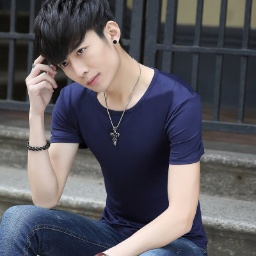face: (33, 1, 124, 92)
